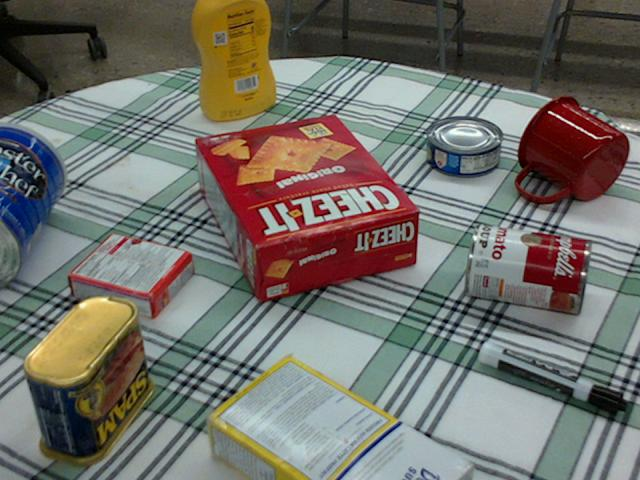cracker_box: (194, 113, 415, 299)
gelatin_box: (68, 230, 192, 318)
large_marker: (479, 341, 627, 417)
master_chef_can: (0, 122, 63, 288)
mug: (516, 96, 627, 203)
mustard_bottle: (192, 0, 275, 120)
potted_meat_can: (22, 293, 152, 463)
sugar_box: (199, 358, 471, 479)
tomato_soup_can: (464, 222, 591, 314)
tuna_fish_can: (426, 116, 503, 176)
